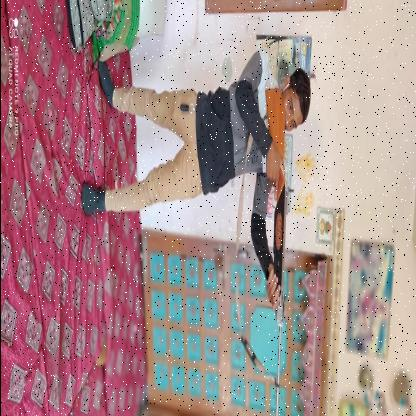rifle: (263, 86, 287, 415)
